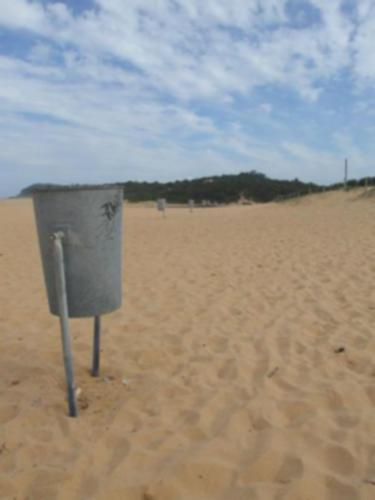Bote de Basura: (29, 182, 128, 315), (154, 194, 168, 211), (188, 198, 195, 206)
